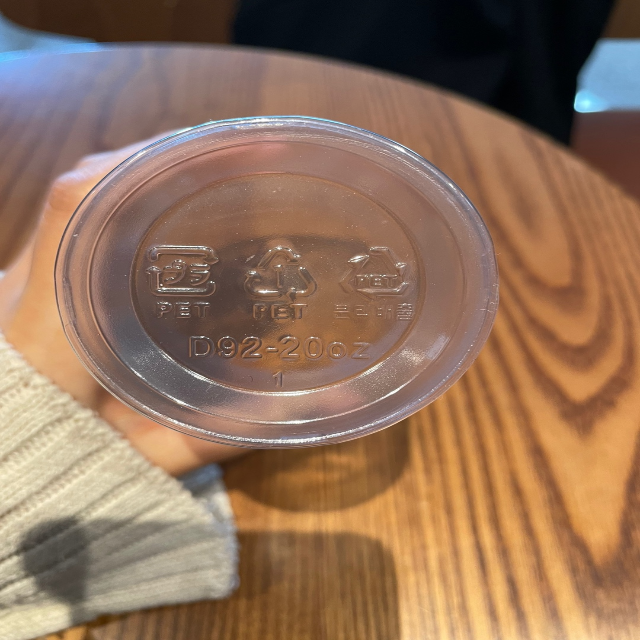pet: (330, 239, 427, 326), (142, 232, 223, 322), (239, 240, 324, 324)
